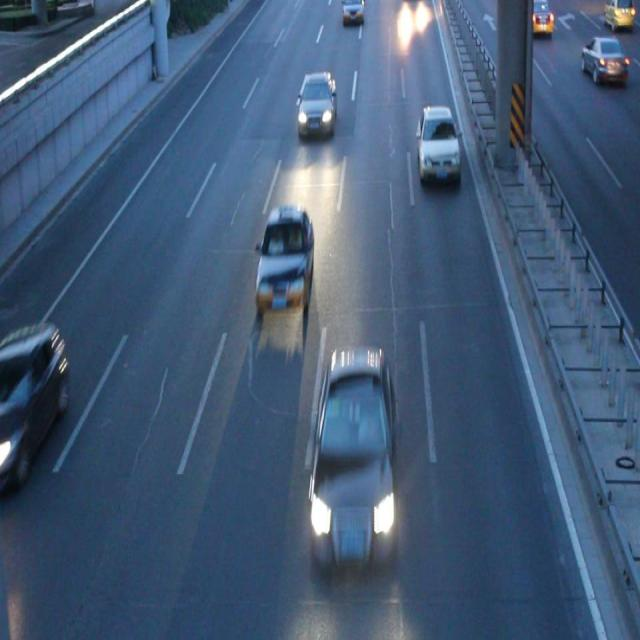car: (312, 354, 396, 552), (1, 325, 66, 480), (258, 205, 313, 307), (417, 106, 460, 180), (298, 76, 336, 133), (581, 37, 626, 83), (516, 2, 552, 34), (342, 1, 363, 22)
